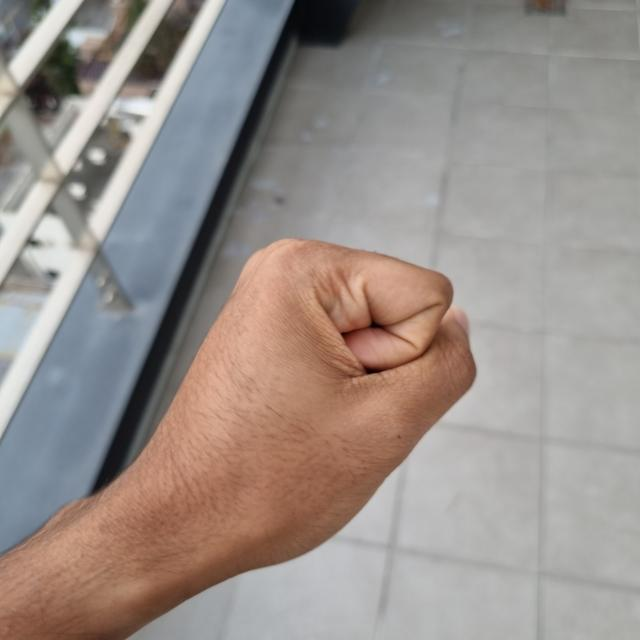Rock: (114, 234, 475, 578)
